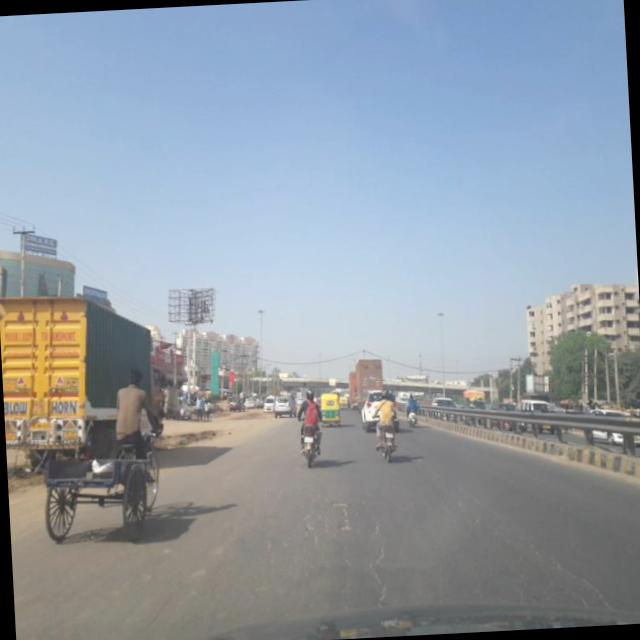crack: (246, 462, 396, 588)
pothole: (476, 505, 606, 613), (361, 498, 396, 598)
